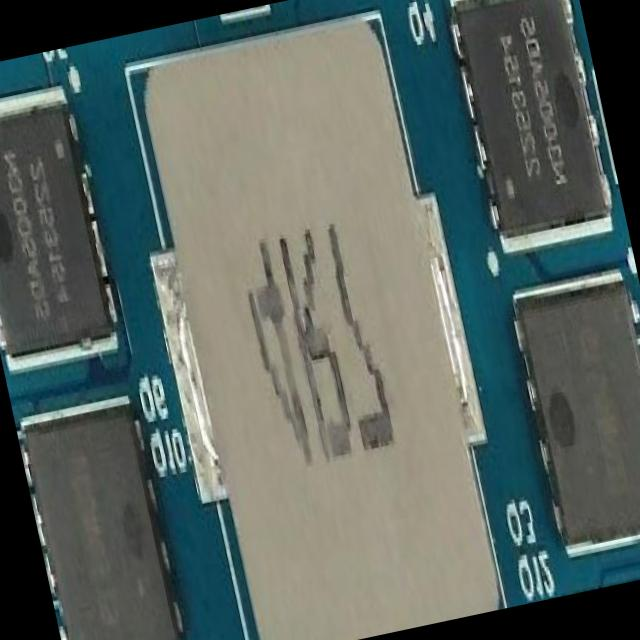IC: (446, 0, 619, 256), (14, 390, 188, 640), (505, 269, 640, 555), (0, 91, 121, 370)
